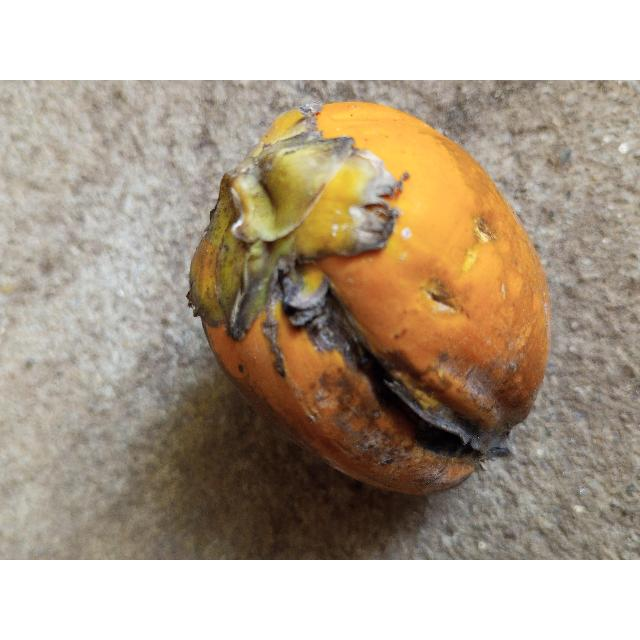damaged: (188, 101, 551, 498)
